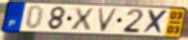0: (25, 5, 45, 31)
2: (123, 8, 146, 35)
8: (46, 6, 68, 31)
V: (96, 7, 120, 33)
X: (142, 9, 170, 35), (69, 7, 95, 31)
